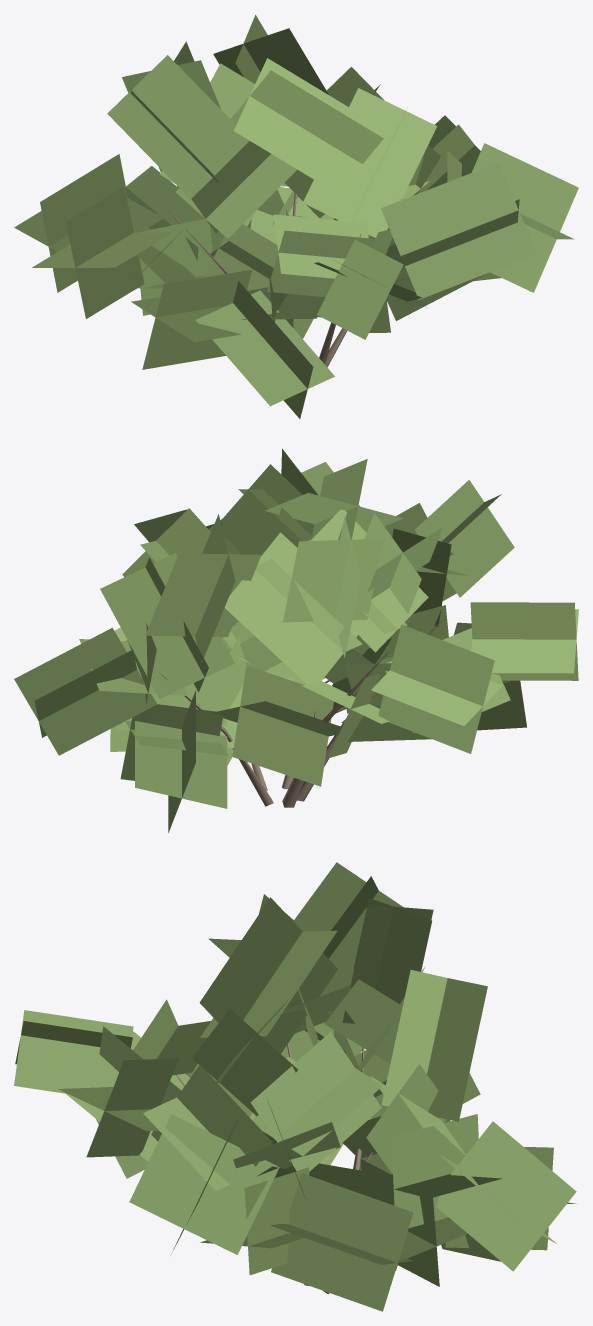
The model's file is Hazel_1_lod1.glb.
3 renders of one model, top to bottom at view 1: azimuth 30°, elevation 25°; view 2: azimuth 150°, elevation 25°; view 3: azimuth 270°, elevation 25°, orthographic. The views are drawn at different scales.
Parts seen in each view (by area): view 1: Hazel_1_lod1; view 2: Hazel_1_lod1; view 3: Hazel_1_lod1.
Part boxes in pixels (x1=…): Hazel_1_lod1: x1=14, y1=15, x2=578, y2=418; Hazel_1_lod1: x1=14, y1=448, x2=578, y2=832; Hazel_1_lod1: x1=14, y1=862, x2=578, y2=1311.
Bounding box in the file's own units: 4.06 × 2.66 × 3.81.
